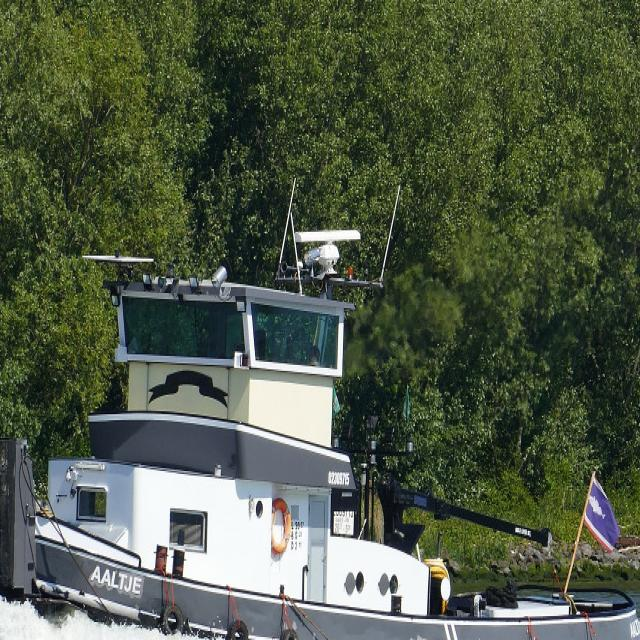tugboat: (1, 174, 640, 640)
